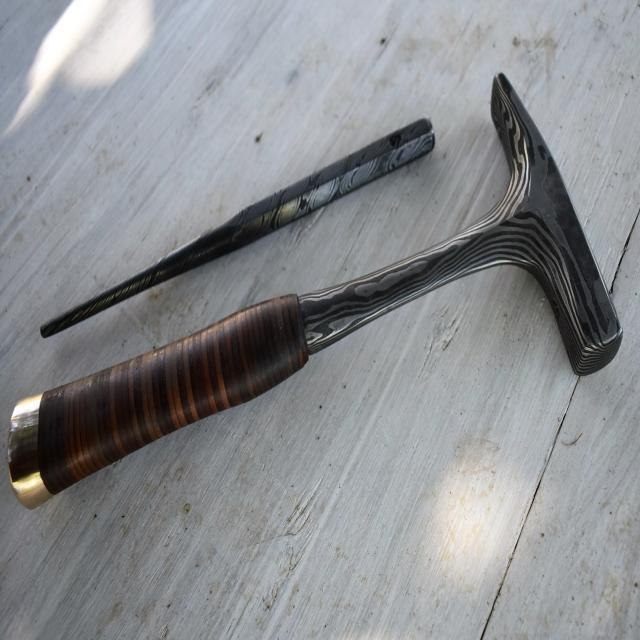hammer: (3, 66, 626, 521)
